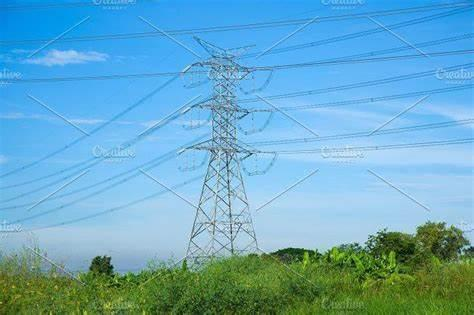power_tower: (166, 31, 273, 270)
